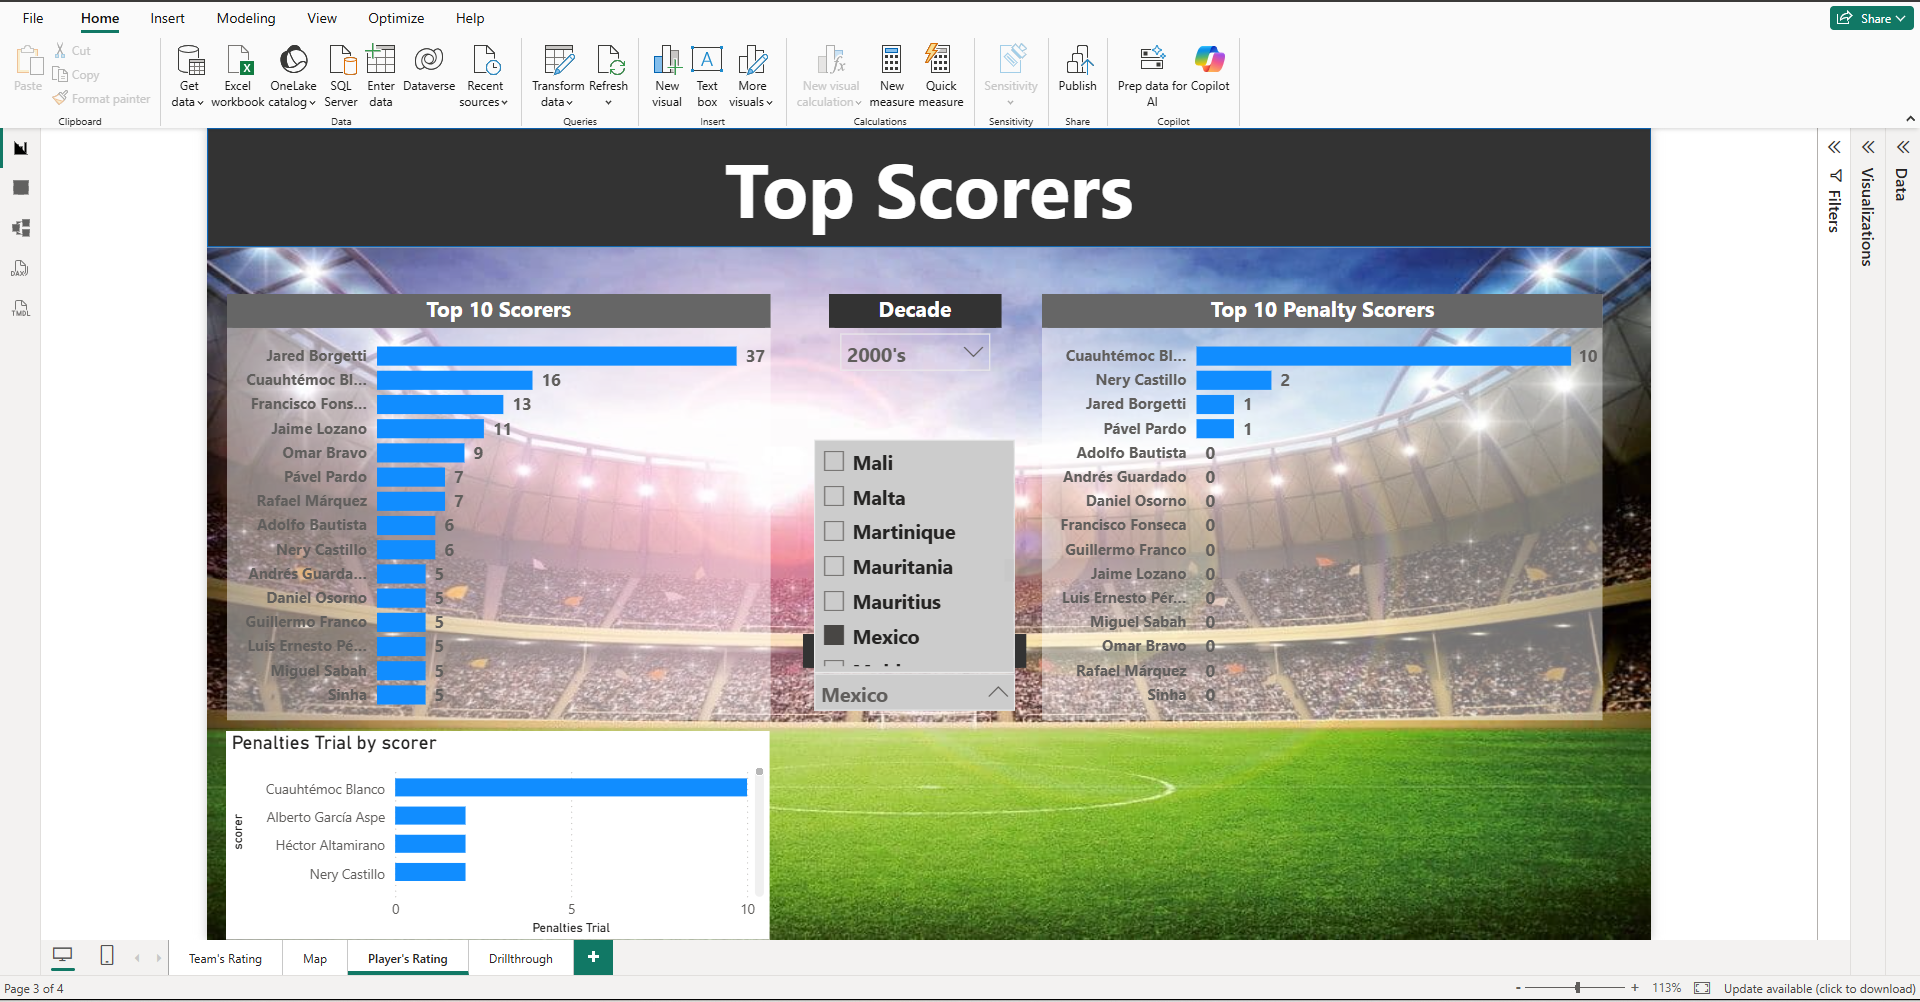

What the dashboard file says about the page in this screenshot:
{"tool":"powerbi","page":{"name":"Player's Rating","canvas":[1280,720],"ordinal":2},"visuals":[{"type":"clusteredBarChart","title":"Top 10 Scorers ","fields":{"Category":["goalscorers.scorer"],"Y":["goalscorers.Top Scorers (Measure)"]},"box":[17.3,147.3,481.8,377.8],"z":0},{"type":"slicer","title":"Decade","fields":{"Values":["goalscorers.Year Bins"]},"box":[551.1,147.3,152.5,109.2],"z":1000},{"type":"shape","title":"Top Scorers","box":[0,0,1280.7,105.7],"z":2000},{"type":"clusteredBarChart","title":"Top 10 Penalty Scorers ","fields":{"Category":["goalscorers.scorer"],"Y":["goalscorers.Top Penalty Scorers"]},"box":[740,147.3,497.4,377.8],"z":3000},{"type":"slicer","title":"Country","fields":{"Values":["goalscorers.team"]},"box":[528.6,448.9,197.6,109.2],"z":4000},{"type":"clusteredBarChart","fields":{"Category":["goalscorers.scorer"],"Y":["goalscorers.Penalties Trial"]},"box":[17,535,482,185],"z":5000}]}

Visuals, with their boxes on the page's 1280x720 design canvas (x1, y1, x2, y2). These are canvas units, not pixel positions in the 1920x1002 screenshot, which may show the page scaled, cropped or inside an application window:
"Top 10 Scorers " clusteredBarChart: <region>17, 147, 499, 525</region>
"Decade" slicer: <region>551, 147, 704, 256</region>
"Top Scorers" shape: <region>0, 0, 1281, 106</region>
"Top 10 Penalty Scorers " clusteredBarChart: <region>740, 147, 1237, 525</region>
"Country" slicer: <region>529, 449, 726, 558</region>
clusteredBarChart - goalscorers.scorer x goalscorers.Penalties Trial: <region>17, 535, 499, 720</region>
